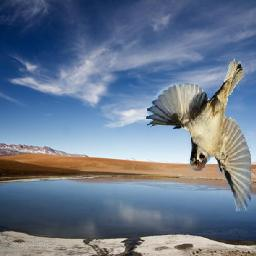Sparrow: (145, 58, 252, 214)
